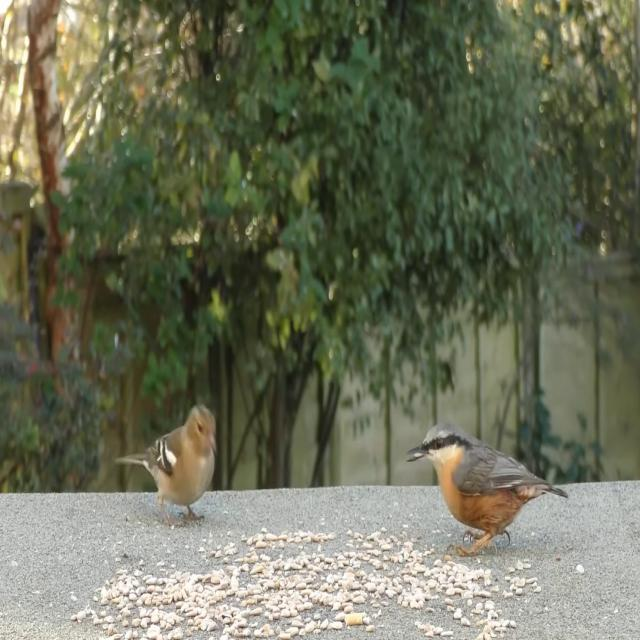beak: (404, 439, 427, 466), (207, 432, 221, 457)
bird: (406, 413, 572, 560), (114, 399, 220, 527)
